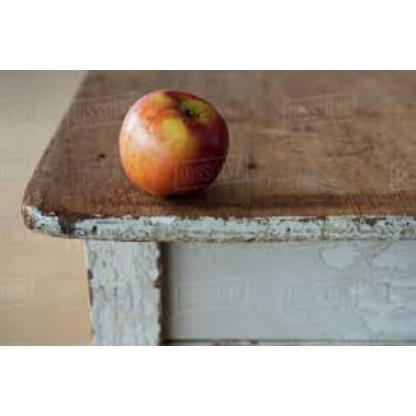apple: (121, 90, 231, 186)
